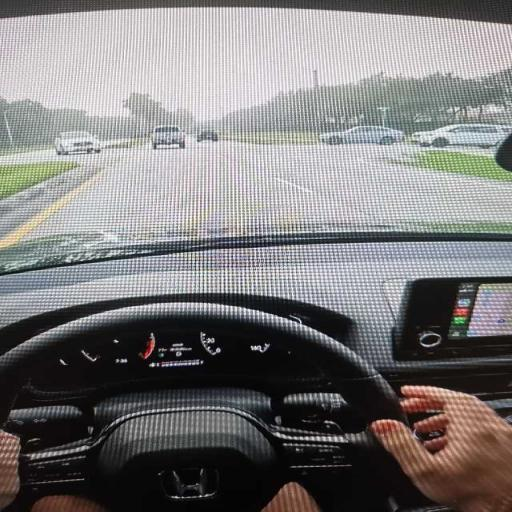car: (412, 124, 509, 147), (320, 126, 403, 144), (55, 131, 100, 154), (152, 125, 185, 149), (197, 130, 218, 142)
lane: (26, 142, 511, 238)
person: (371, 386, 511, 511)
